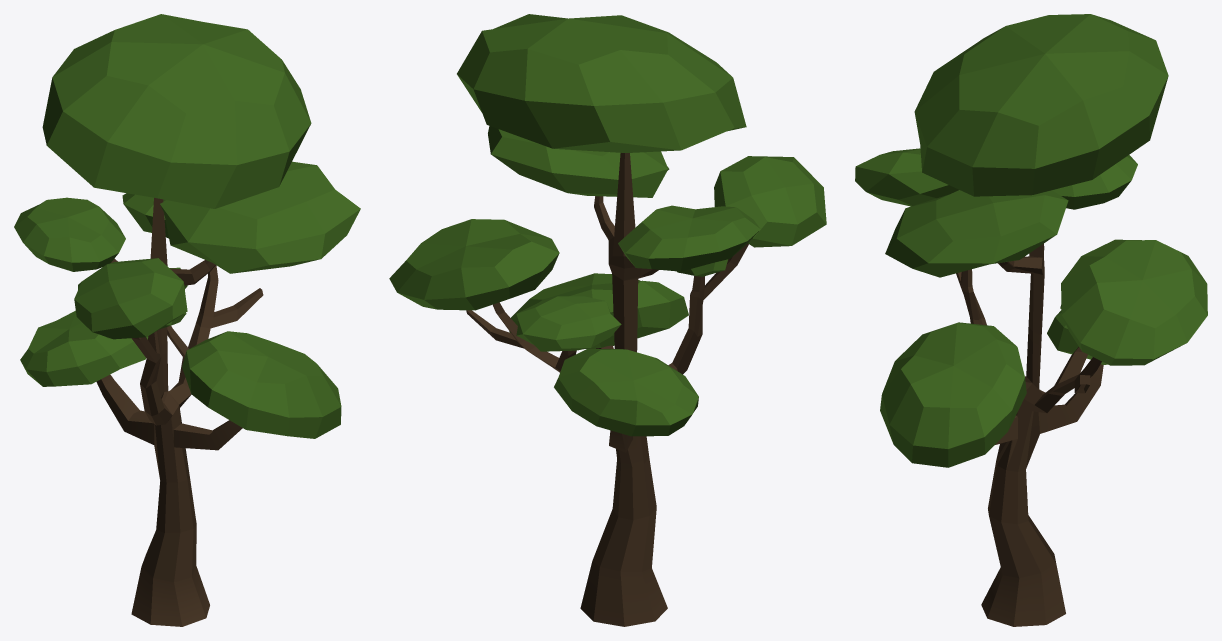
Rendered from Tree_L_A.fbx.
3 renders of one model, left to right at view 1: azimuth 30°, elevation 25°; view 2: azimuth 150°, elevation 25°; view 3: azimuth 270°, elevation 25°, orthographic. The views are drawn at different scales.
Parts seen in each view (by area): view 1: Tree_L_A; view 2: Tree_L_A; view 3: Tree_L_A.
Boxes of the visible parts, left/top/right/bottom form: Tree_L_A: left=14, top=14, right=360, bottom=626; Tree_L_A: left=389, top=14, right=826, bottom=626; Tree_L_A: left=855, top=14, right=1207, bottom=626.
Bounding box in the file's own units: 1181 × 2110 × 1161.
